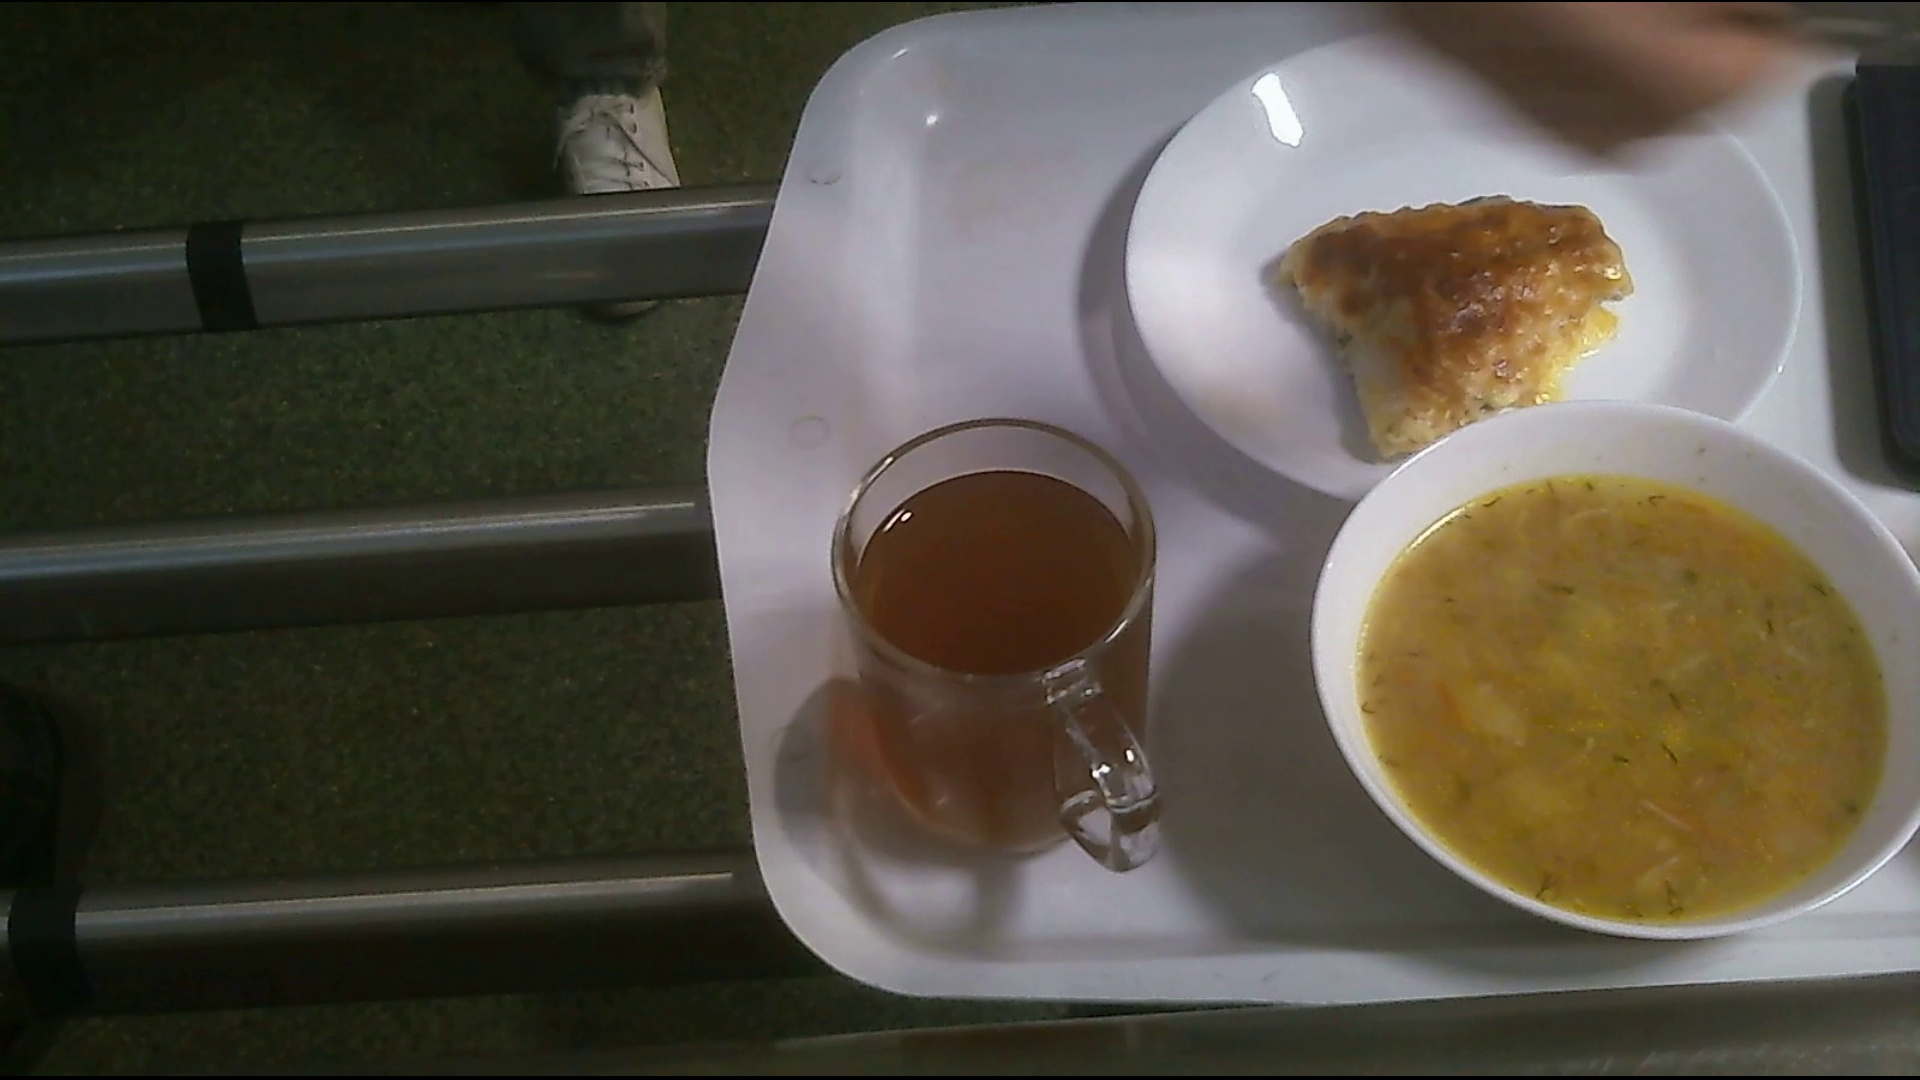bowl: (1325, 397, 1920, 944)
drink: (837, 410, 1164, 887)
plate: (1118, 44, 1774, 455)
